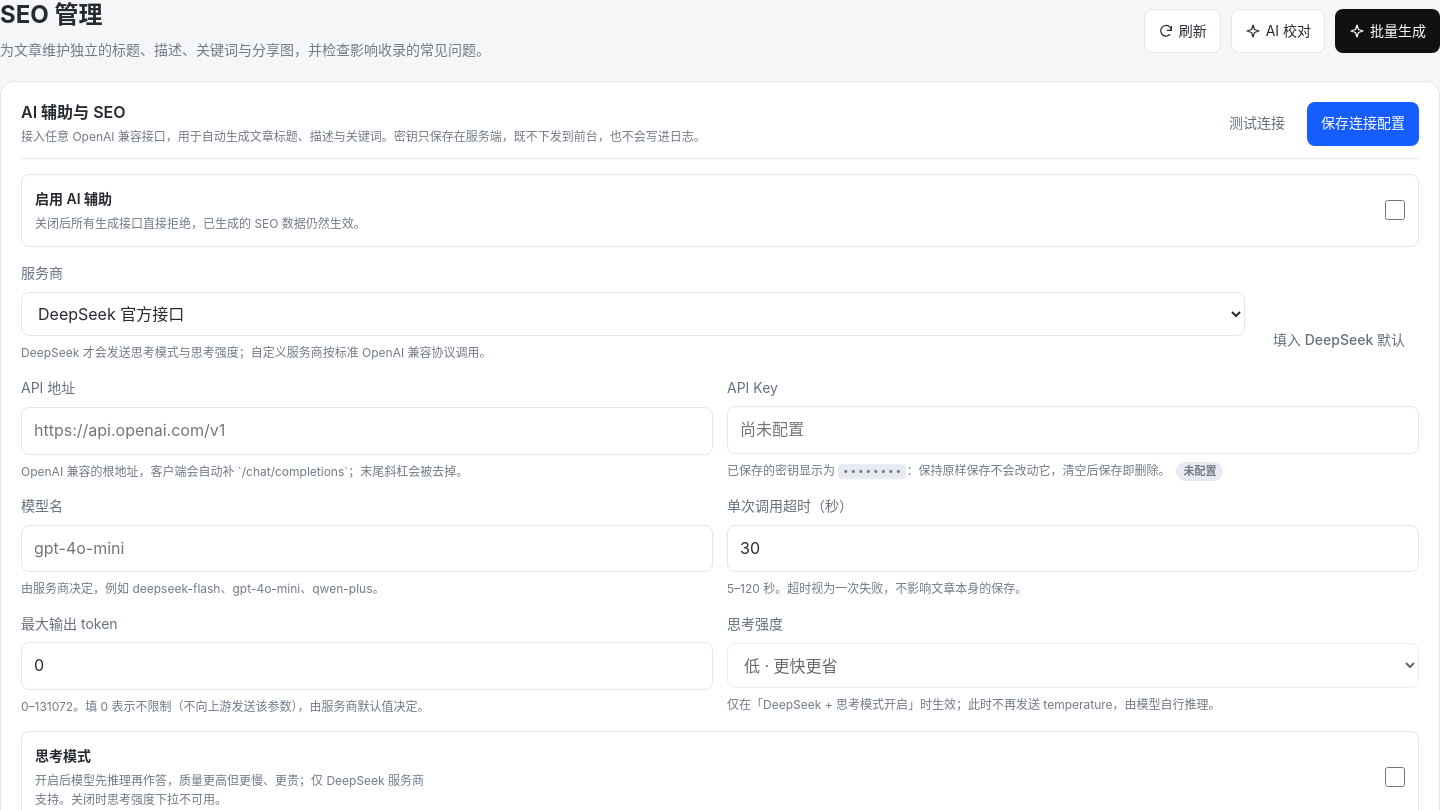
SEO admin page › shows the empty and failure states of the proofread dialog
Click the button "AI 校对" at (1278, 31), box [1231,9,1325,53]
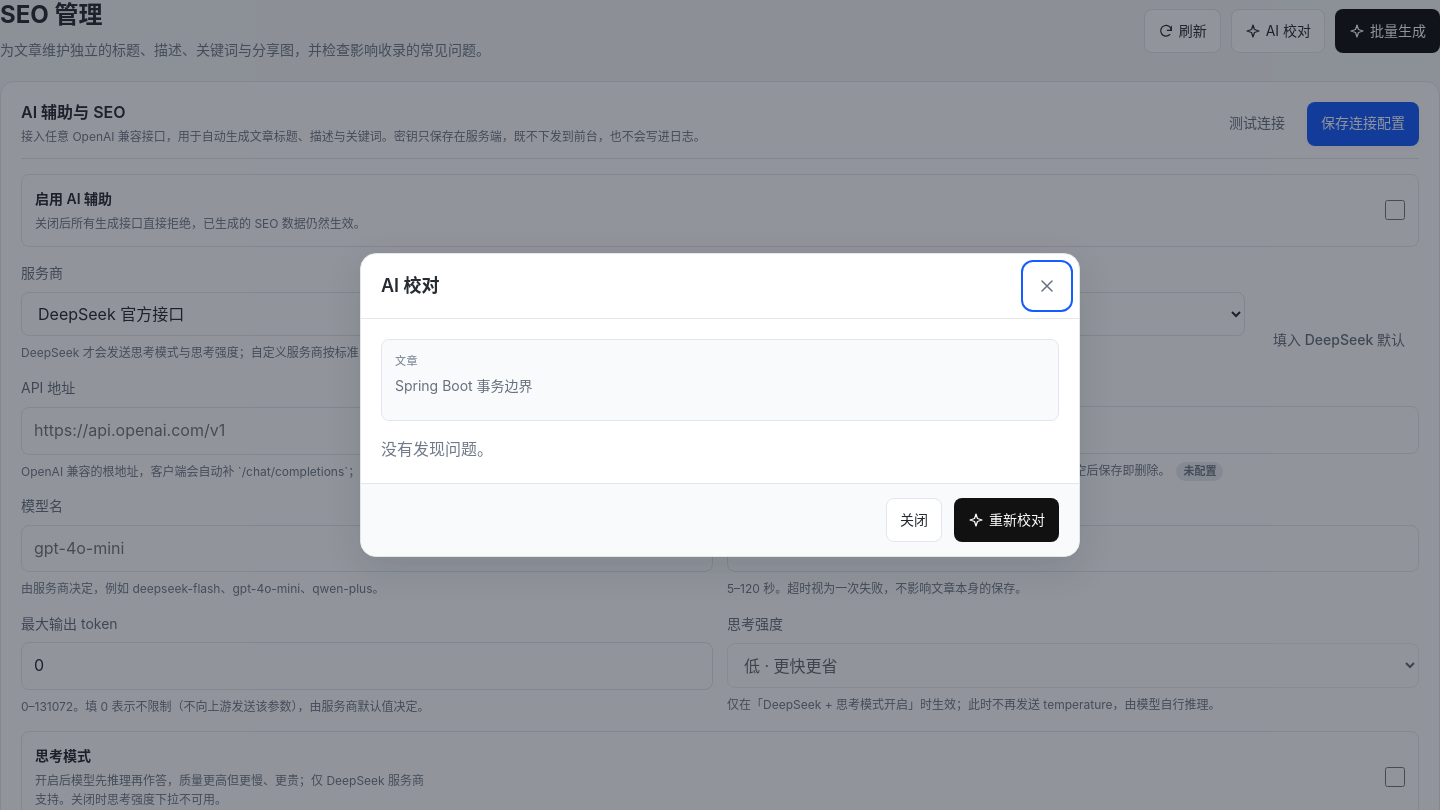
Now the text "没有发现问题。" is shown, box [381,439,493,459]
Click the button "重新校对" at (1006, 520), box [954,498,1059,542]
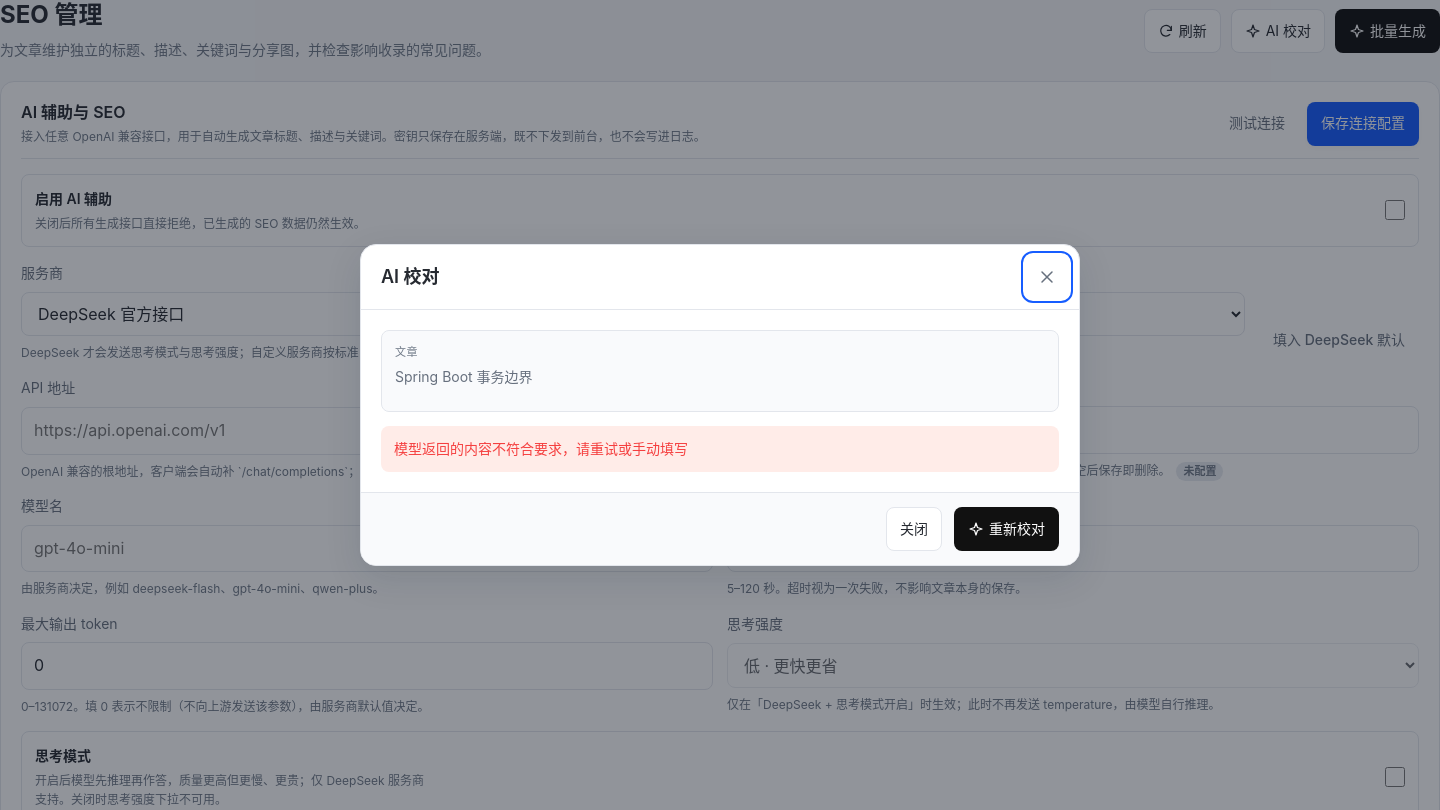
Now the message "模型返回的内容不符合要求，请重试或手动填写" is shown, box [381,426,1059,472]
